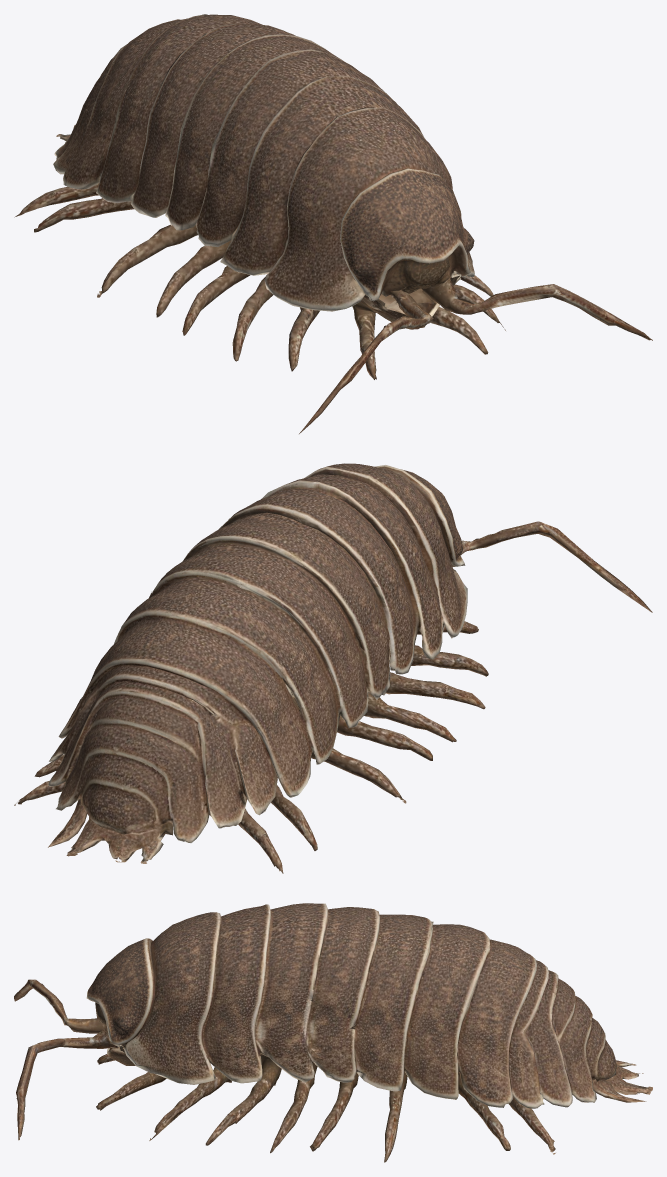
File: isopod.glb
3 views of the same model, one above another, from view 1: azimuth 30°, elevation 25°; view 2: azimuth 150°, elevation 25°; view 3: azimuth 270°, elevation 25° (orthographic). The views are drawn at different scales.
Visible parts, largest first — view 1: tripo_part_0, tripo_part_2, tripo_part_1, tripo_part_6, tripo_part_3; view 2: tripo_part_0, tripo_part_1, tripo_part_3, tripo_part_2, tripo_part_5; view 3: tripo_part_0, tripo_part_1, tripo_part_2, tripo_part_6, tripo_part_3, tripo_part_5.
Part boxes in pixels (box(x1,y1,x2,y2)): tripo_part_0: box(53, 14, 474, 311); tripo_part_2: box(340, 168, 474, 301); tripo_part_1: box(14, 125, 505, 379); tripo_part_6: box(421, 278, 652, 340); tripo_part_3: box(299, 290, 433, 433); tripo_part_0: box(48, 463, 467, 842); tripo_part_1: box(14, 621, 488, 873); tripo_part_3: box(460, 521, 652, 612); tripo_part_2: box(375, 465, 465, 566); tripo_part_5: box(48, 798, 87, 847); tripo_part_0: box(123, 903, 616, 1108); tripo_part_1: box(96, 1047, 652, 1162); tripo_part_2: box(86, 938, 154, 1048); tripo_part_6: box(16, 1029, 115, 1140); tripo_part_3: box(14, 979, 106, 1033); tripo_part_5: box(592, 1078, 646, 1102).
Size of the model in its own units: 0.52 by 0.3265 by 0.9804.
Materials: 8 (8 with a texture image).
